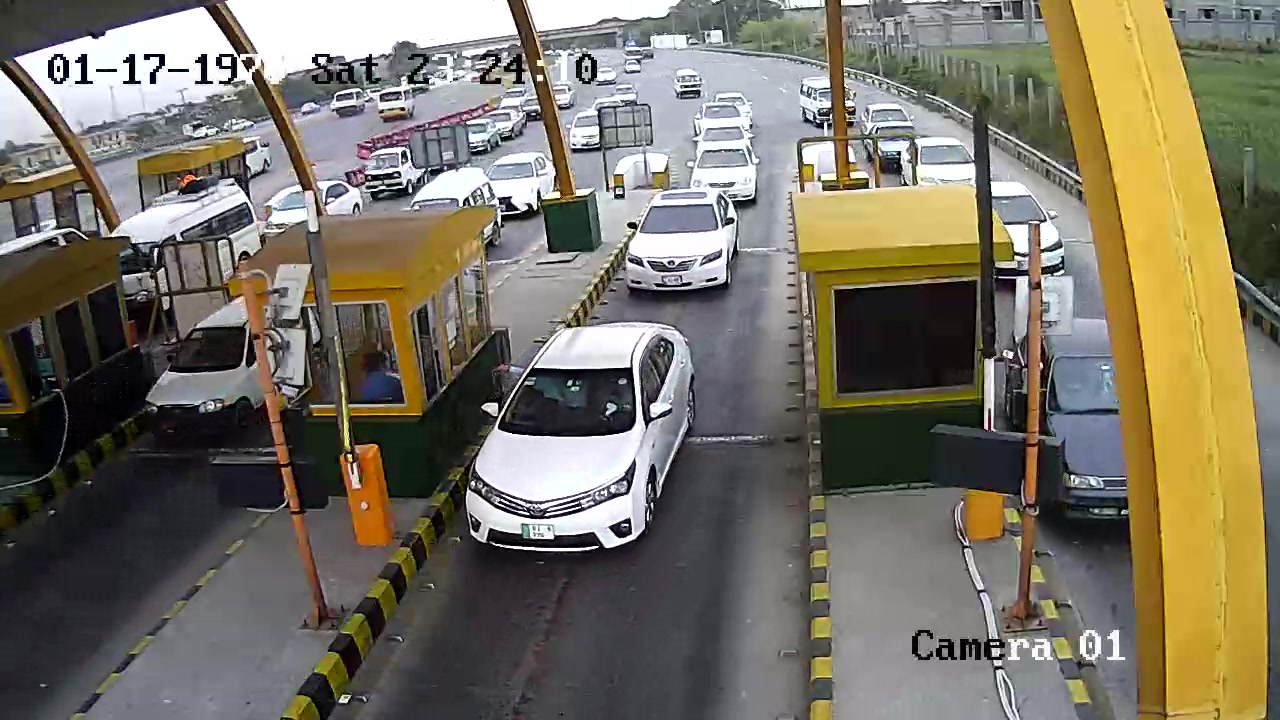F1: (464, 318, 707, 558)
